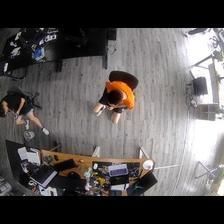normal: (1, 87, 51, 140), (90, 77, 139, 128)
